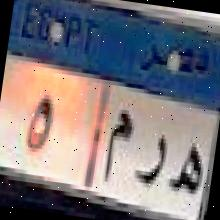5: (18, 92, 61, 158)
haa: (166, 128, 207, 204)
meem: (101, 104, 136, 190)
raa: (132, 124, 171, 194)
